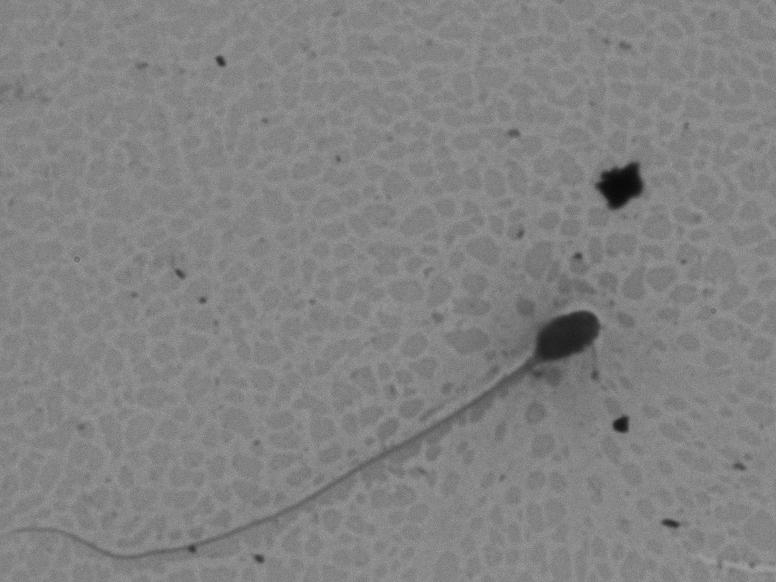Normal: (16, 294, 627, 568)
